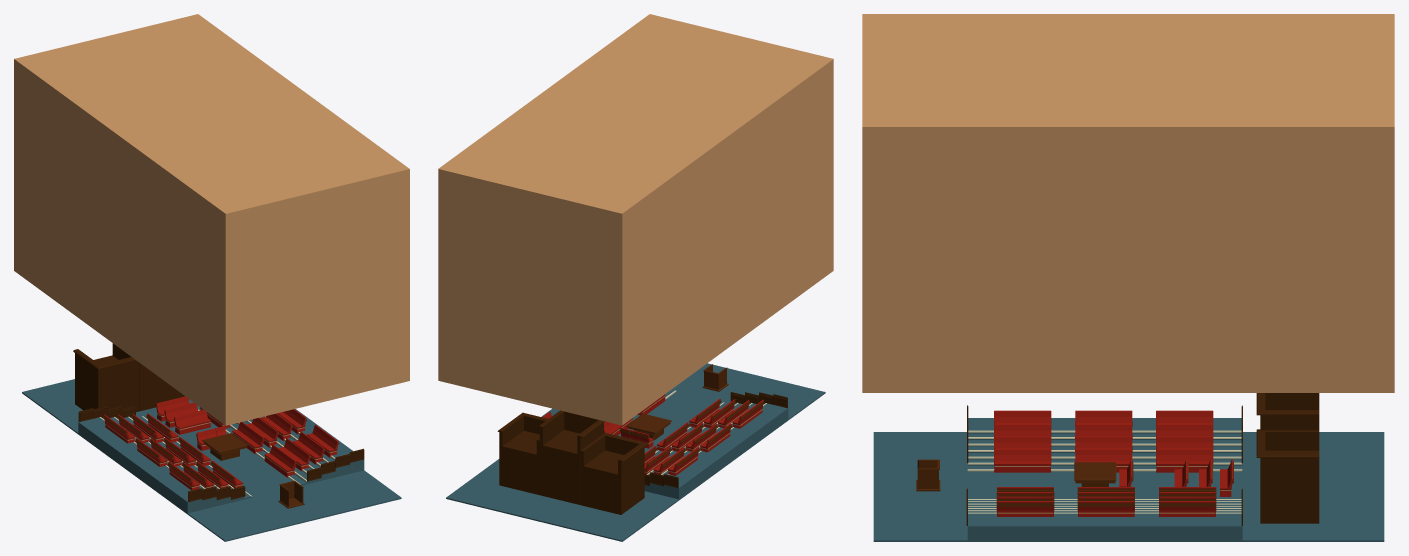
File: Courtroom.fbx
The picture shows the model from 3 angles, left to right: view 1: azimuth 30°, elevation 25°; view 2: azimuth 150°, elevation 25°; view 3: azimuth 270°, elevation 25°; orthographic projection. The views are drawn at different scales.
Parts seen in each view (by area): view 1: pCube50, pCube1, pCube49, pCube16 (×4), pCube47, pCube17 (×2), pCube24, pCube6, pCube25; view 2: pCube50, pCube1, pCube49, pCube47, pCube48, pCube24, pCube25; view 3: pCube50, pCube1, pCube48, pCube47, pCube5, pCube4, pCube24, pCube17, pCube16, pCube18, Chair_01:pCube3, pCube14 (+9 smaller).
Boxes of the visible parts, box(x1,y1,x2,y2) form: pCube50: box(14, 14, 409, 425); pCube1: box(22, 379, 401, 541); pCube49: box(73, 343, 138, 412); pCube16 (×4): box(264, 425, 339, 477); pCube47: box(139, 362, 179, 411); pCube17 (×2): box(232, 417, 278, 453); pCube24: box(202, 433, 247, 460); pCube6: box(174, 409, 210, 434); pCube25: box(278, 480, 304, 508); pCube50: box(438, 14, 833, 425); pCube1: box(446, 363, 825, 541); pCube49: box(580, 432, 647, 514); pCube47: box(538, 410, 604, 504); pCube48: box(497, 412, 547, 494); pCube24: box(626, 413, 671, 440); pCube25: box(702, 364, 728, 391); pCube50: box(862, 14, 1394, 392); pCube1: box(873, 418, 1384, 541); pCube48: box(1256, 429, 1319, 523); pCube47: box(1256, 393, 1319, 430); pCube5: box(994, 449, 1051, 472); pCube4: box(1156, 449, 1213, 472); pCube24: box(1074, 462, 1116, 486); pCube17: box(1077, 501, 1134, 516); pCube16: box(996, 501, 1054, 516); pCube18: box(1159, 501, 1216, 516); Chair_01:pCube3: box(1075, 449, 1132, 472); pCube14: box(1075, 410, 1132, 425).
Size of the model in its own units: 145 by 249 by 288.
